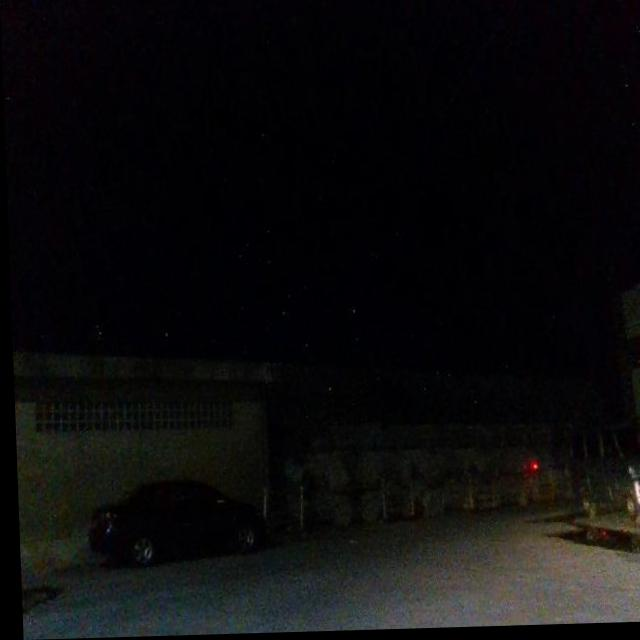pollute: (17, 587, 63, 617)
